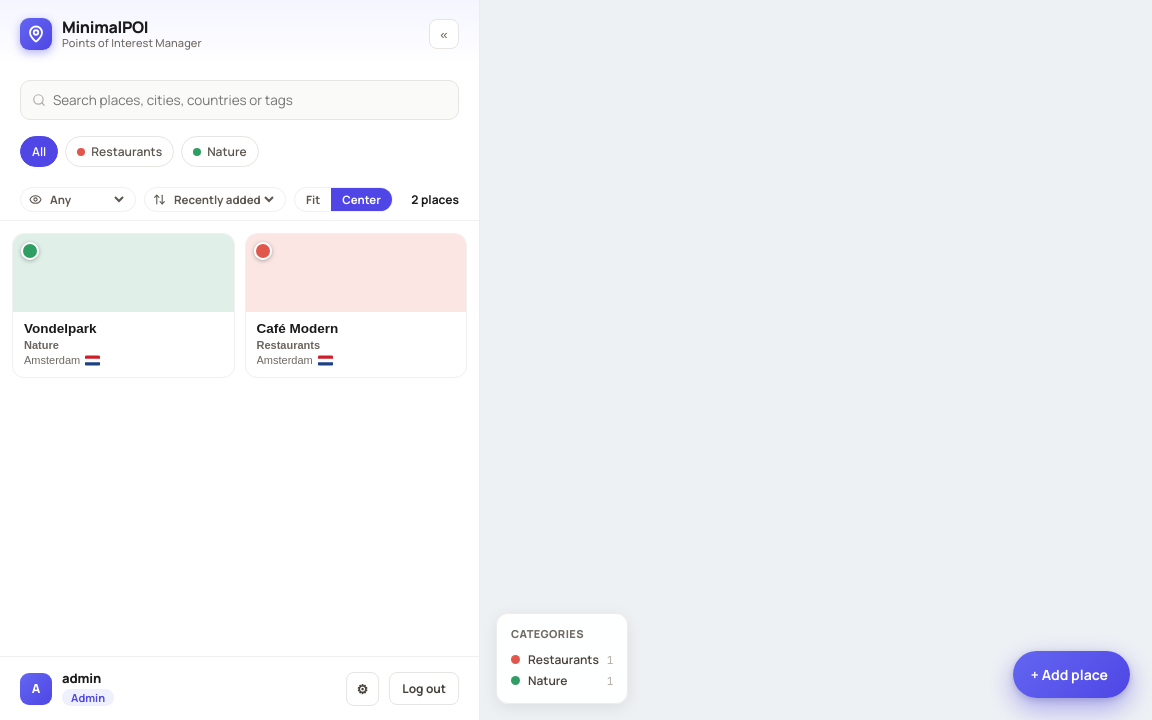
Test: AppShell › search narrows both the list and the map source
Check: the text "Café Modern" is shown, box x1=256 y1=321 x2=338 y2=336
Type "vondel" into the field labelled "Search places, cities, countries or tags" at (240, 100), box x1=20 y1=80 x2=459 y2=120
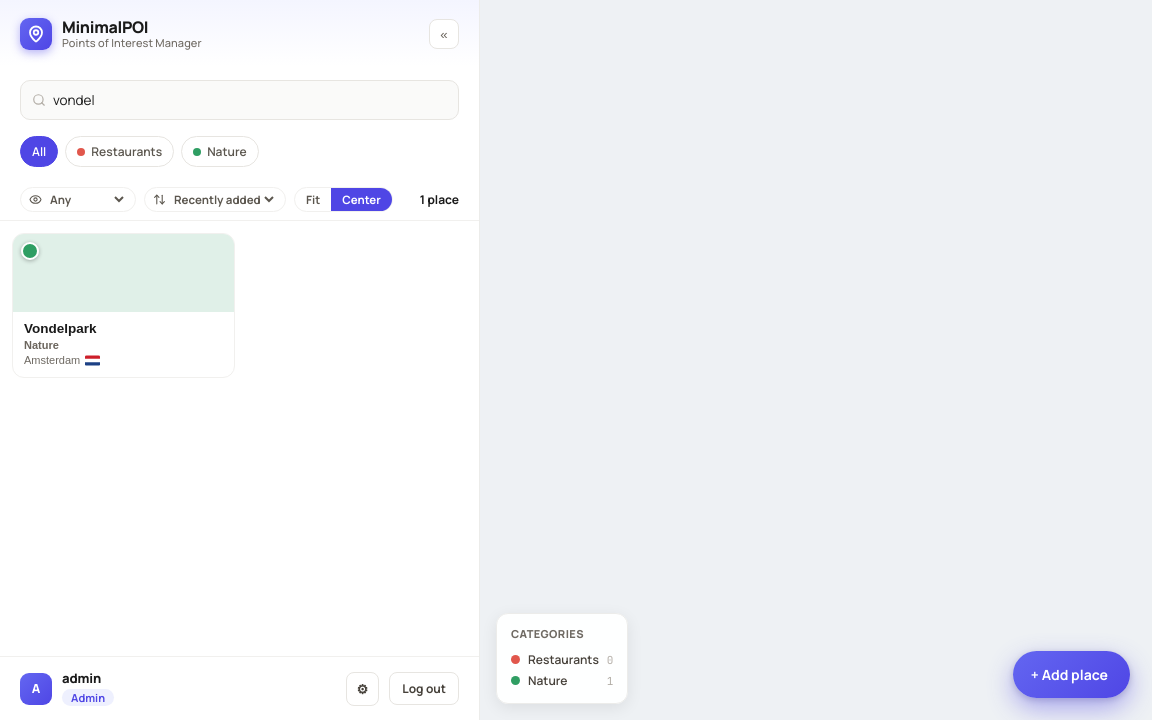
Check: the text "Vondelpark" is shown, box x1=24 y1=321 x2=96 y2=336
Check: the button "Café Modern" is gone
Check: the text "1 place" is shown, box x1=420 y1=191 x2=459 y2=208
